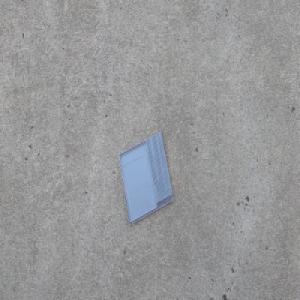PlasticPart: (117, 129, 174, 226)
